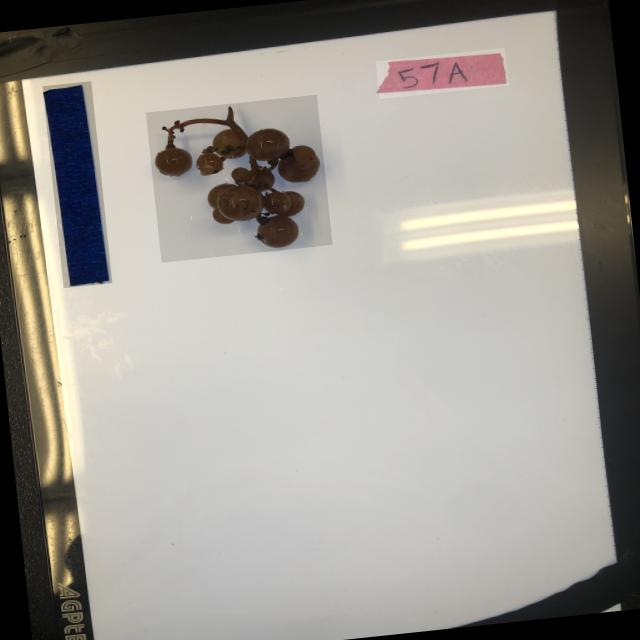grape_cluster: (146, 94, 332, 262)
index: (376, 48, 509, 98)
measure_label: (42, 80, 112, 288)
